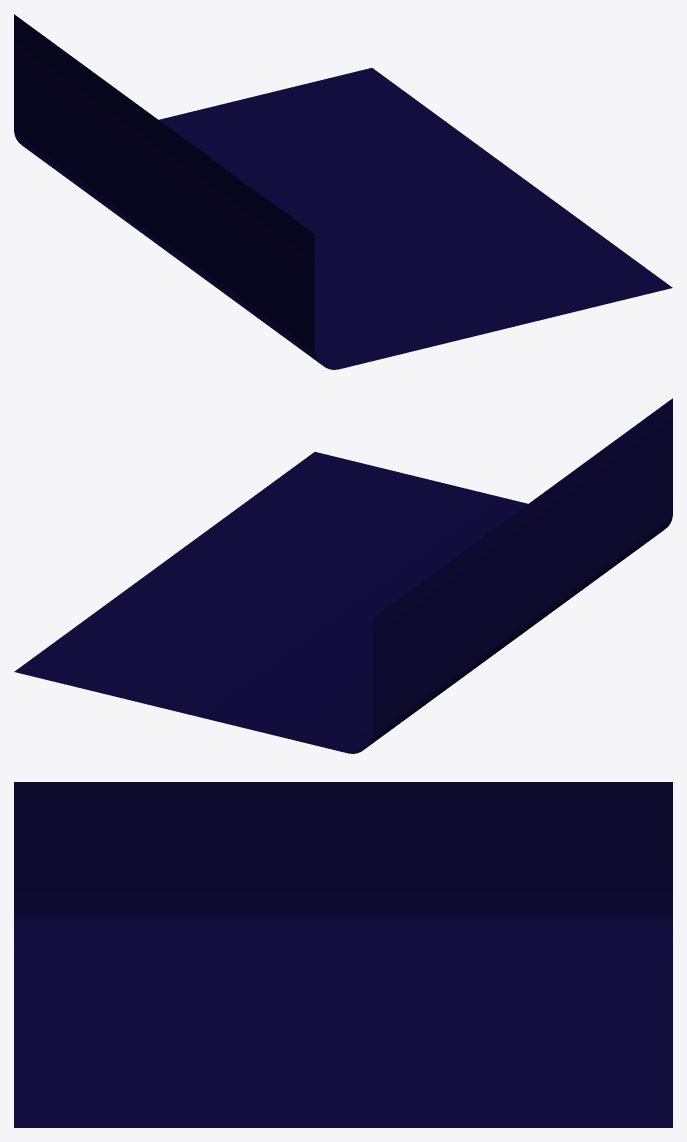
The picture shows the model from 3 angles, top to bottom: view 1: azimuth 30°, elevation 25°; view 2: azimuth 150°, elevation 25°; view 3: azimuth 270°, elevation 25°; orthographic projection. The views are drawn at different scales.
Parts seen in each view (by area): view 1: backdrop; view 2: backdrop; view 3: backdrop.
Boxes of the visible parts, <box> form: backdrop: <box>14,14,672,369</box>; backdrop: <box>14,398,672,753</box>; backdrop: <box>14,782,672,1127</box>.
Bounding box in the file's own units: 328 × 124 × 478.
